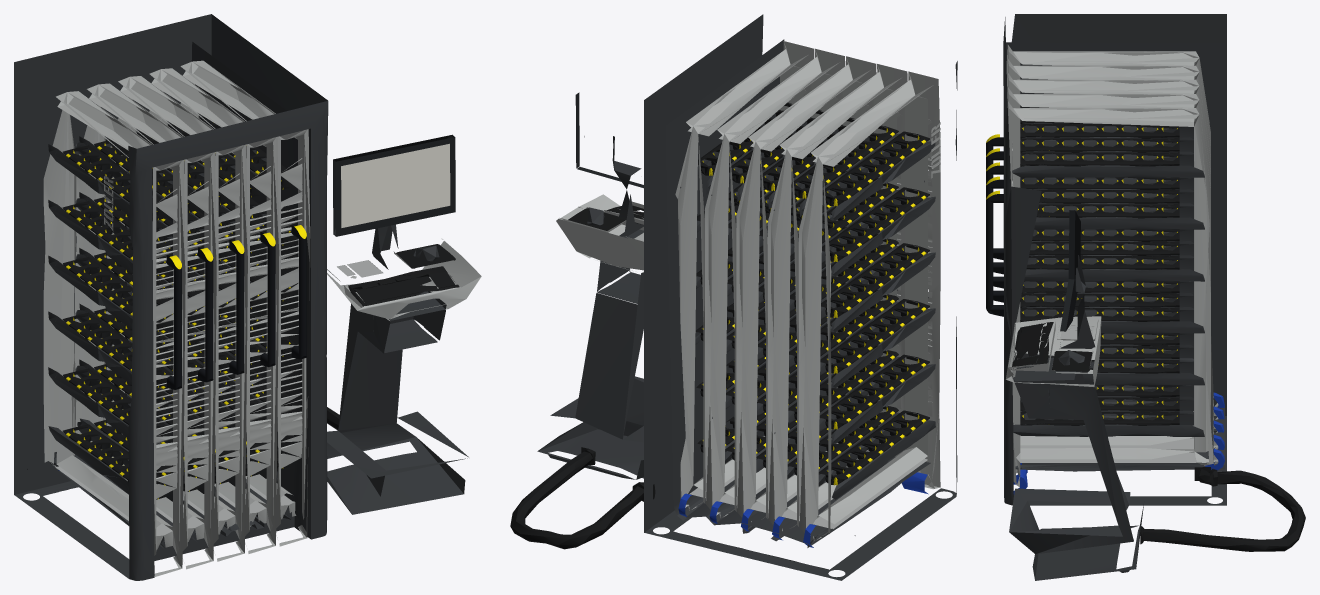
Rendered from keeper.glb.
3 renders of one model, left to right at view 1: azimuth 30°, elevation 25°; view 2: azimuth 150°, elevation 25°; view 3: azimuth 270°, elevation 25°, orthographic. The views are drawn at different scales.
Visible parts, largest first — view 1: keeper; view 2: keeper; view 3: keeper.
Part boxes in pixels (x1,y1,x2,y2): keeper: (14, 14, 481, 580); keeper: (510, 14, 957, 580); keeper: (986, 14, 1305, 580).
Bounding box in the file's own units: 1.81 × 2.13 × 1.51.
